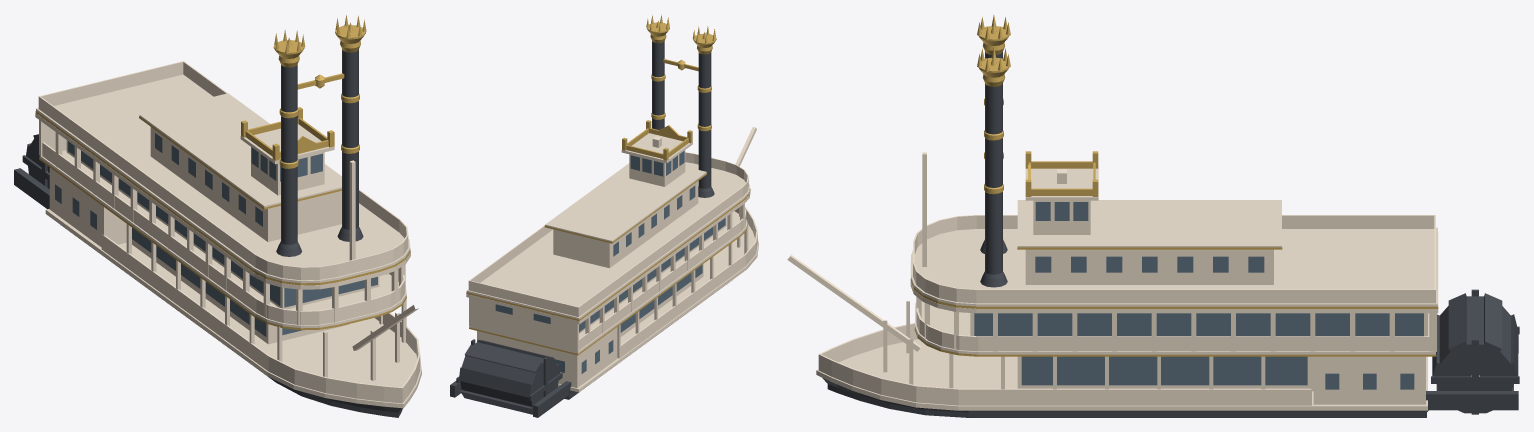
3 renders of one model, left to right at view 1: azimuth 30°, elevation 25°; view 2: azimuth 150°, elevation 25°; view 3: azimuth 270°, elevation 25°, orthographic. The views are drawn at different scales.
Parts seen in each view (by area): view 1: mark-twain-riverboat-disneyland; view 2: mark-twain-riverboat-disneyland; view 3: mark-twain-riverboat-disneyland.
Part boxes in pixels (<box>): mark-twain-riverboat-disneyland: <box>14,15,421,417</box>; mark-twain-riverboat-disneyland: <box>450,14,758,417</box>; mark-twain-riverboat-disneyland: <box>787,15,1519,417</box>.
Size of the model in its own units: 9.26 by 19.75 by 37.13.
